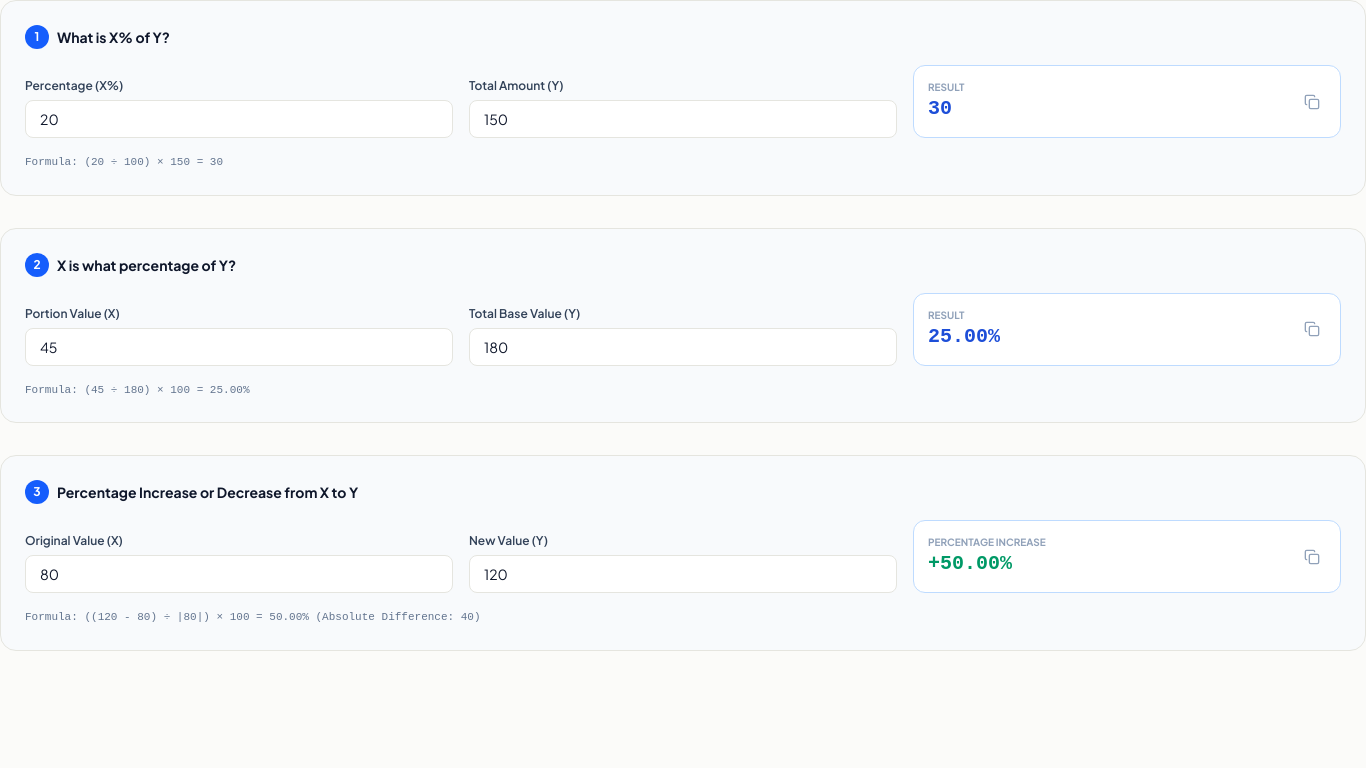
it: Tool Components › PercentageCalculator computes percentage values
This screenshot has width=1366, height=768.
Replace the text in the number field labelled "Percentage (X%)" with "10" at {"x": 239, "y": 119}, box [25, 100, 453, 138]
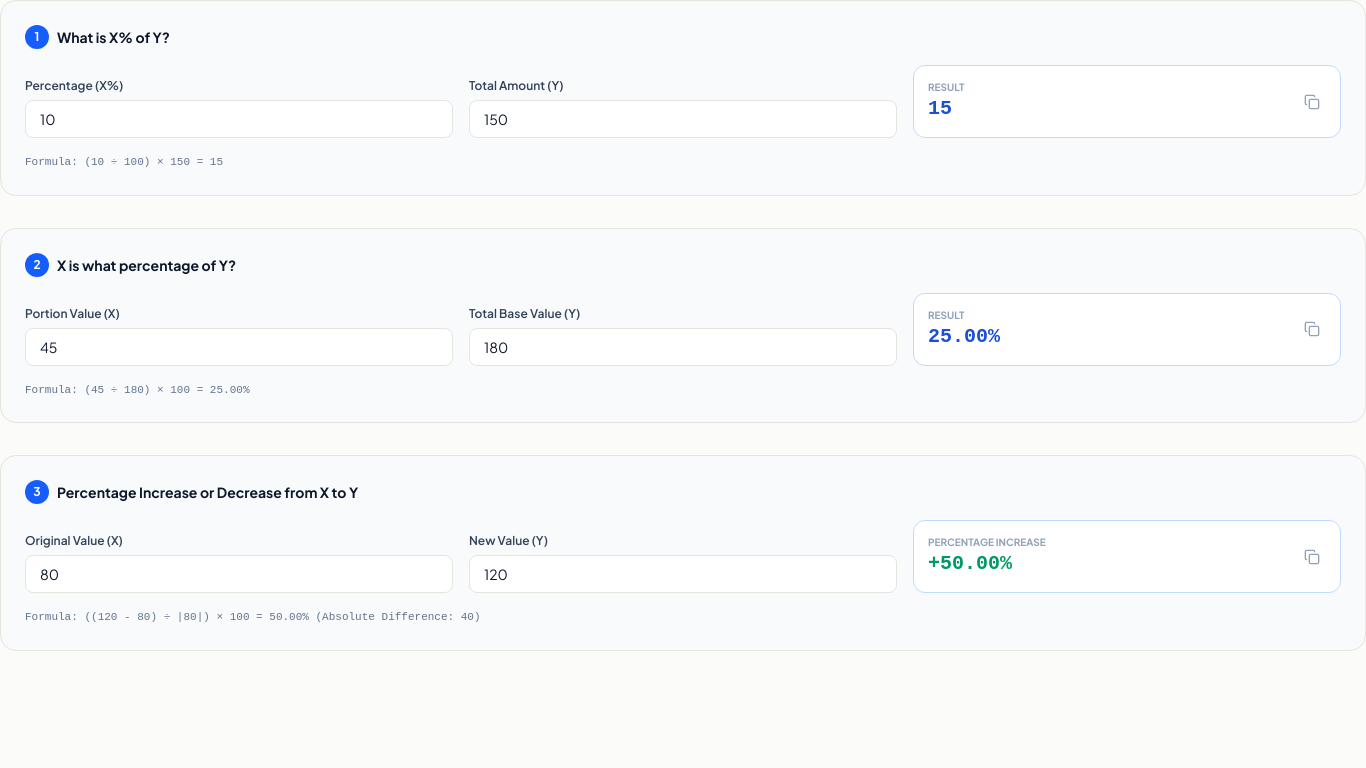
Replace the text in the number field labelled "Total Amount (Y)" with "500" at {"x": 683, "y": 119}, box [469, 100, 897, 138]
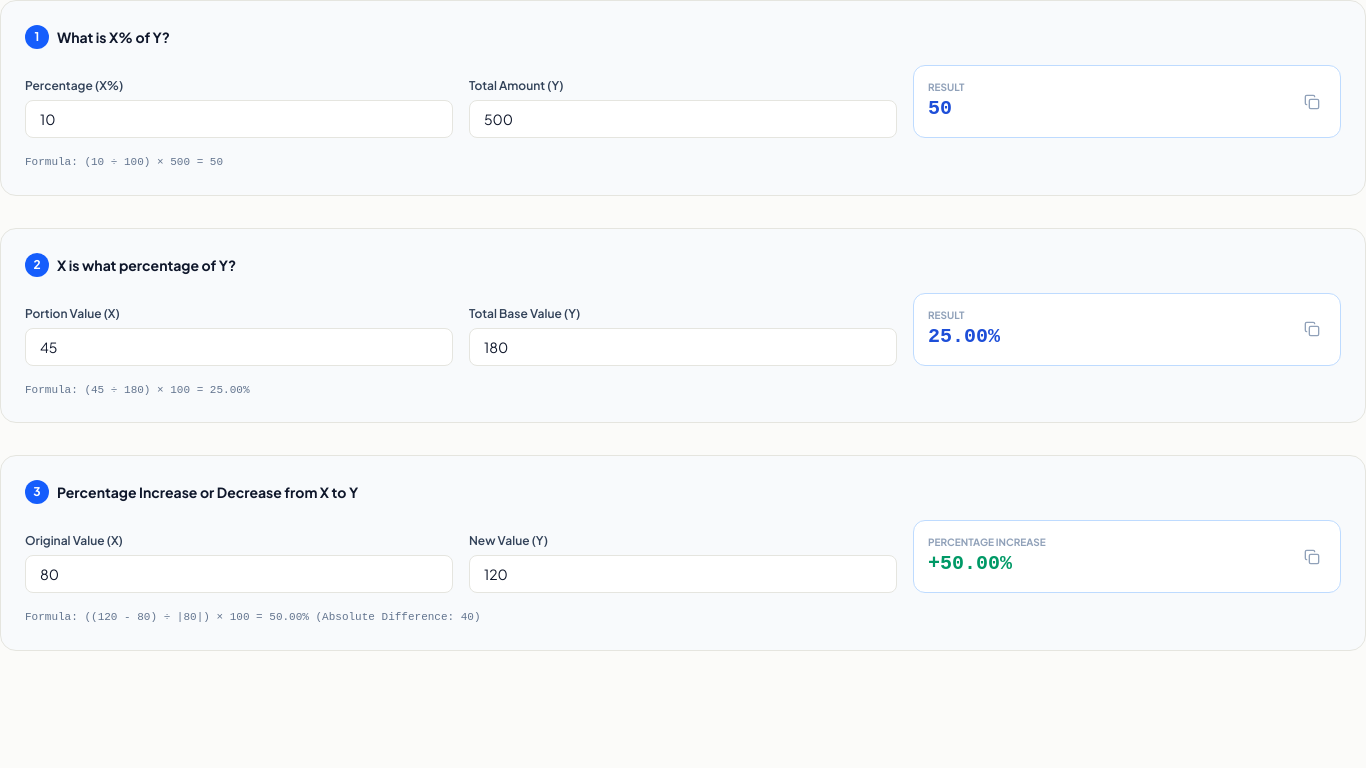
Now the text "50" is shown, box [928, 97, 952, 120]
